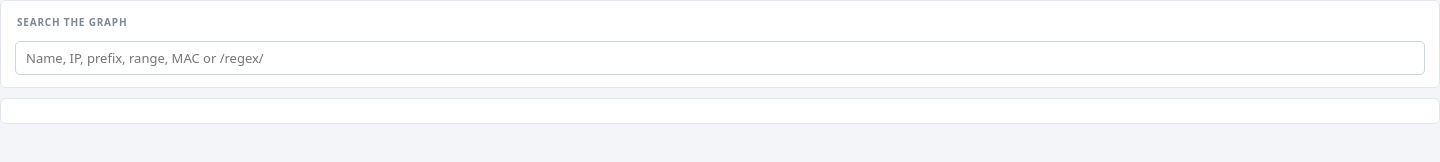
search routes › does not look in the route tables for a name
Type "leaf" into the search field at (720, 58), box [15, 41, 1425, 75]
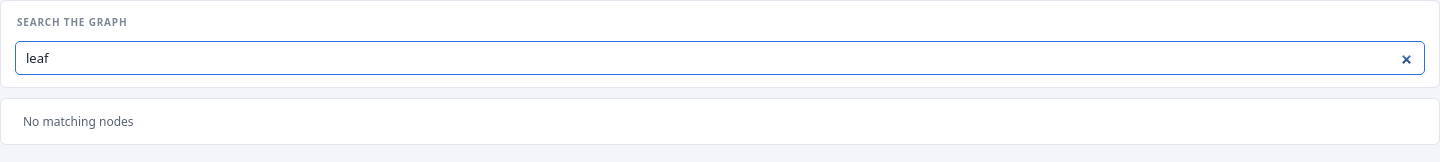
Check: the text "No matching nodes" is shown, box [23, 113, 134, 130]
